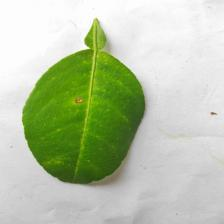canker: (70, 92, 90, 108)
